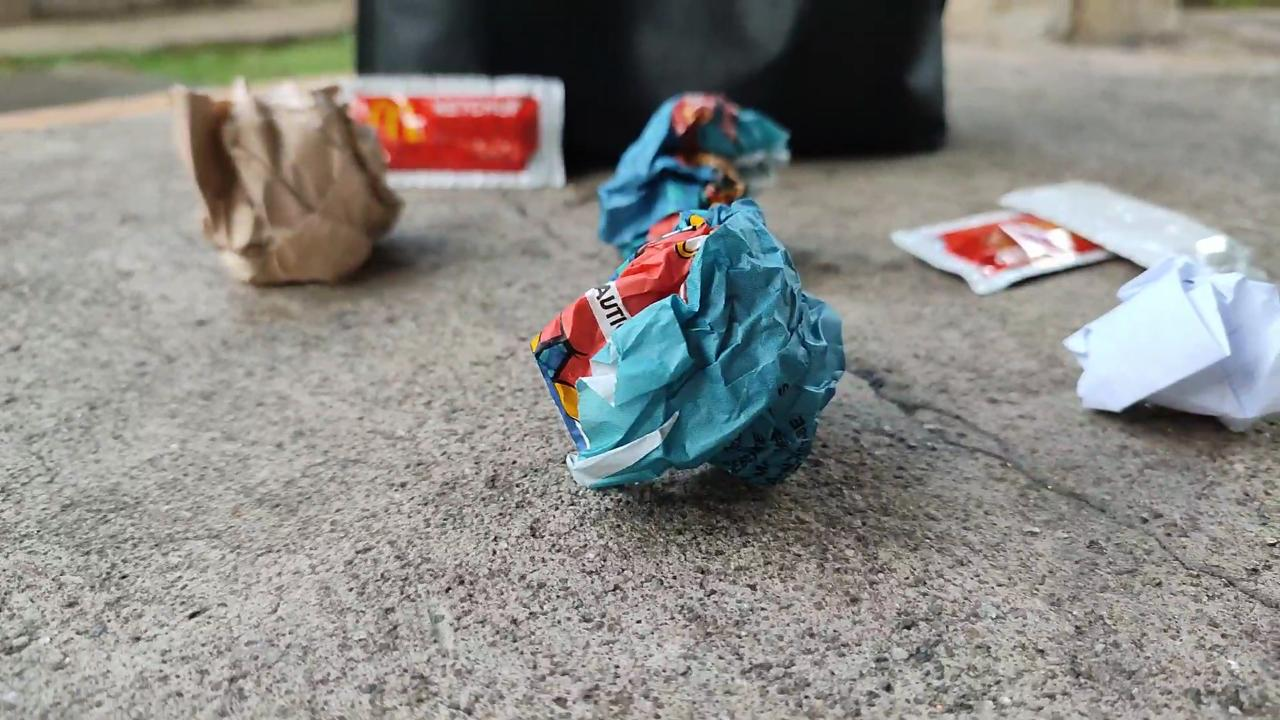Paper: (535, 186, 854, 530), (172, 80, 402, 294), (584, 79, 797, 274), (1092, 252, 1280, 455)
